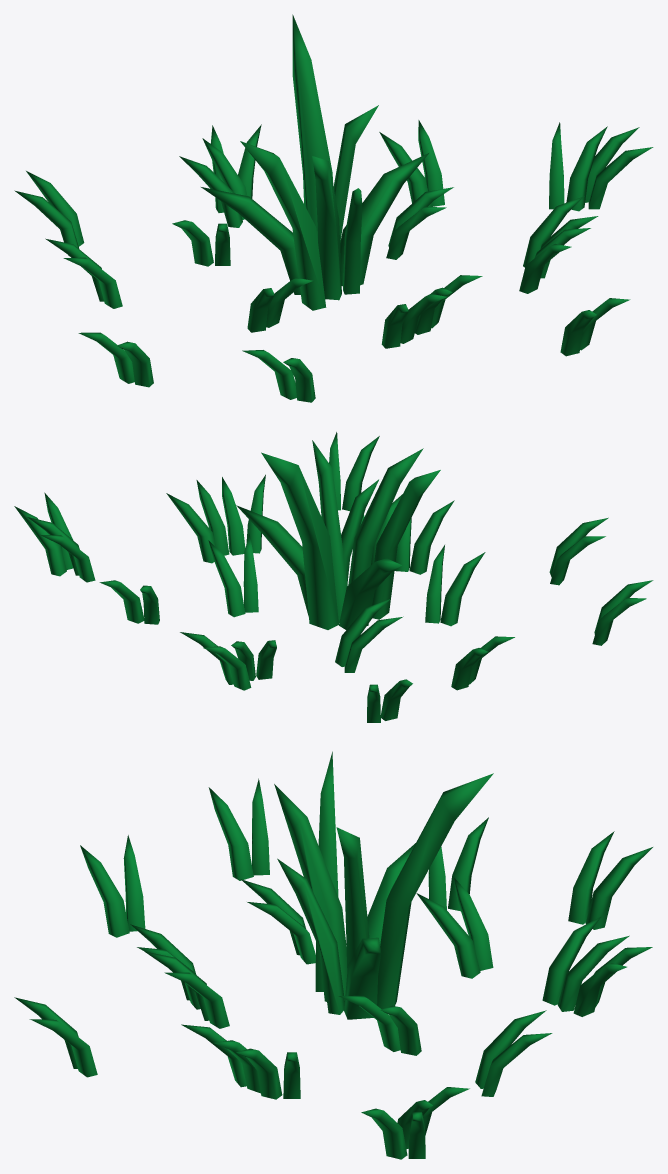
The model's file is SM_Grass_01.fbx.
3 renders of one model, top to bottom at view 1: azimuth 30°, elevation 25°; view 2: azimuth 150°, elevation 25°; view 3: azimuth 270°, elevation 25°, orthographic. The views are drawn at different scales.
Visible parts, largest first — view 1: SM_Grass_01; view 2: SM_Grass_01; view 3: SM_Grass_01.
Boxes of the visible parts, x1,y1,x2,y2 form: SM_Grass_01: [14, 14, 653, 402]; SM_Grass_01: [14, 432, 653, 722]; SM_Grass_01: [14, 751, 652, 1159].
Size of the model in its own units: 141 by 47.21 by 112.
Materials: 1 (1 with a texture image).
